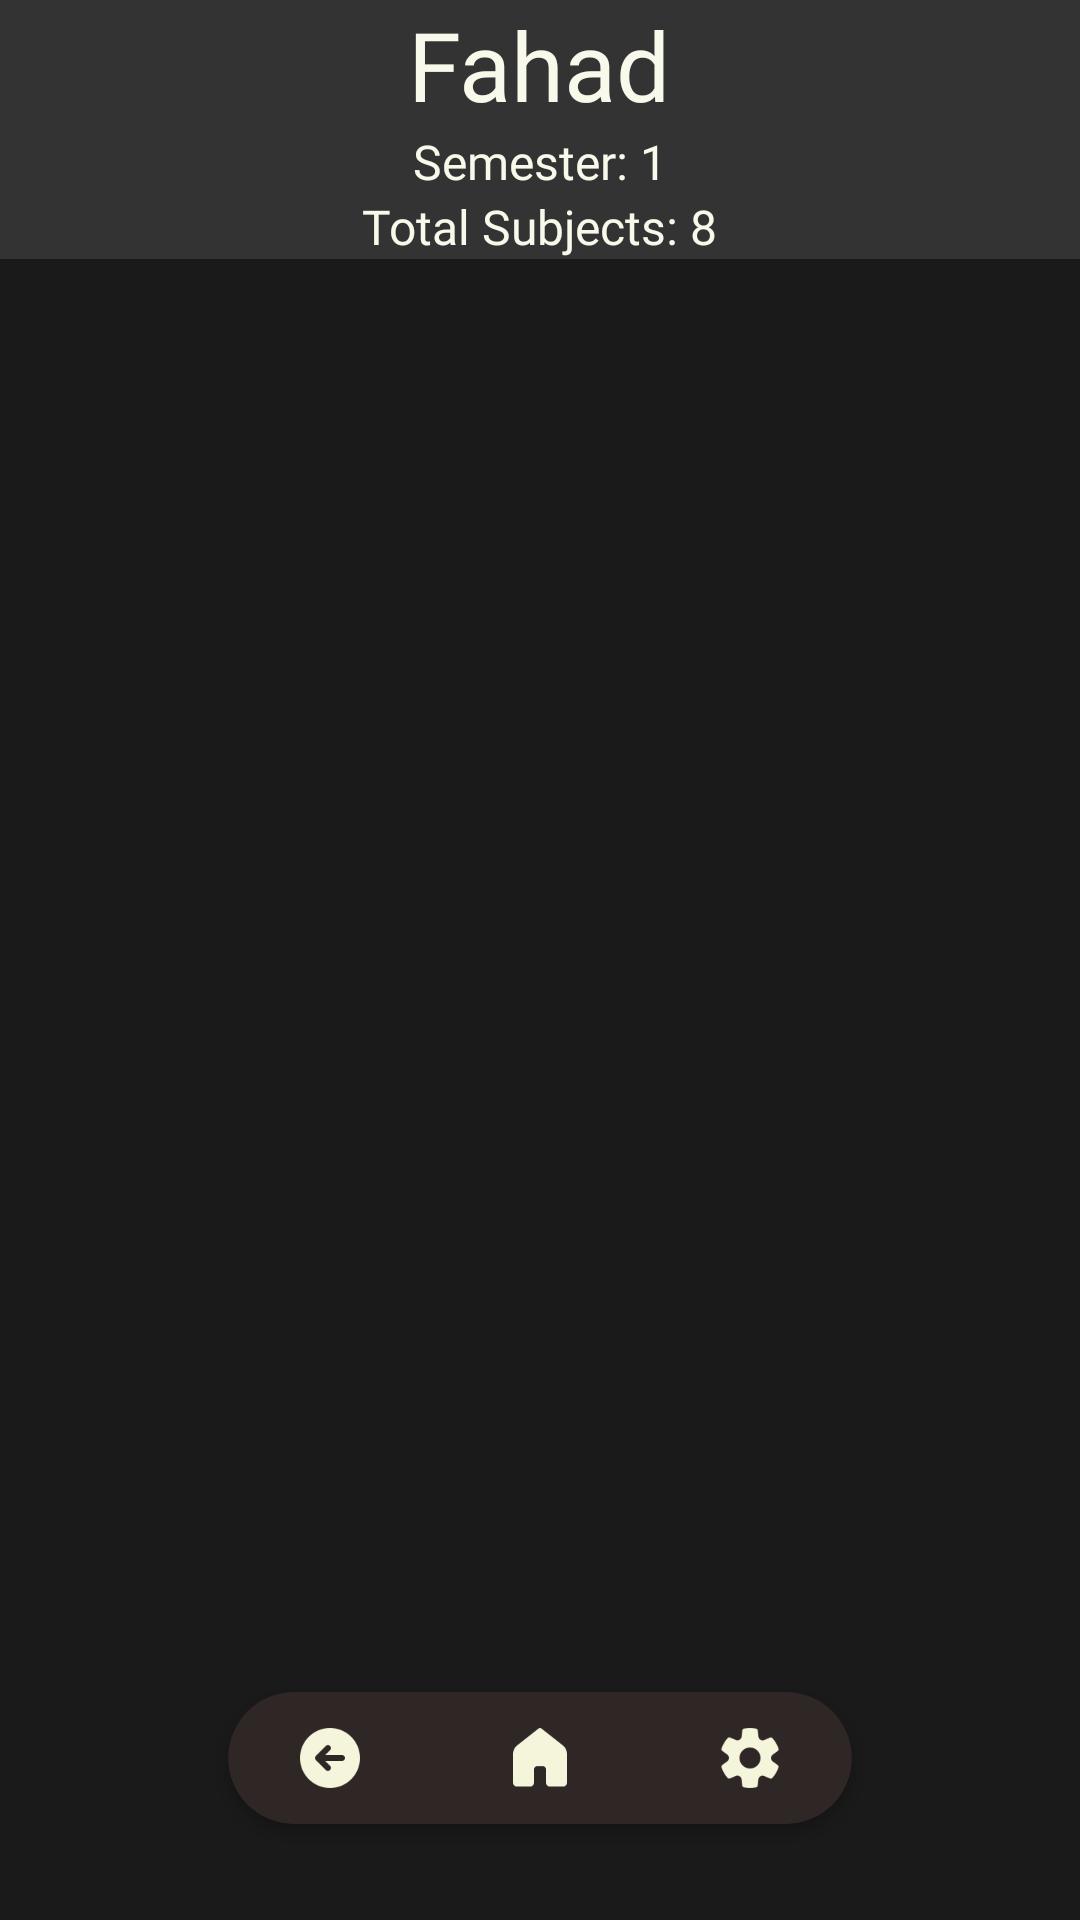

Icon click points for this 1080x1920 phone screenshot, format (x=x, y=y):
back: (x=330, y=1758)
home: (x=540, y=1757)
settings: (x=750, y=1758)
